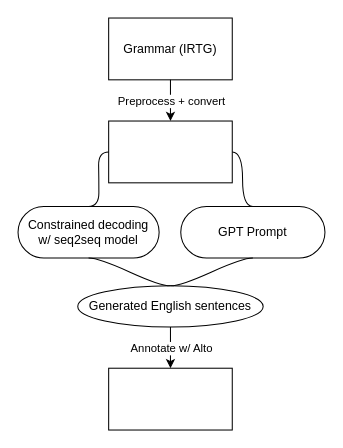
Some shapes in this 343 by 448 pixel diagram are drawn without their labels. The shapes that lost their labels are listed below. From the top down, each one's box as (x1, y1, x2, y2) in pixels, then its label:
(108, 120, 232, 183): Grammar (EBNF)
(108, 367, 232, 430): Dataset with sentence-representation pairs
